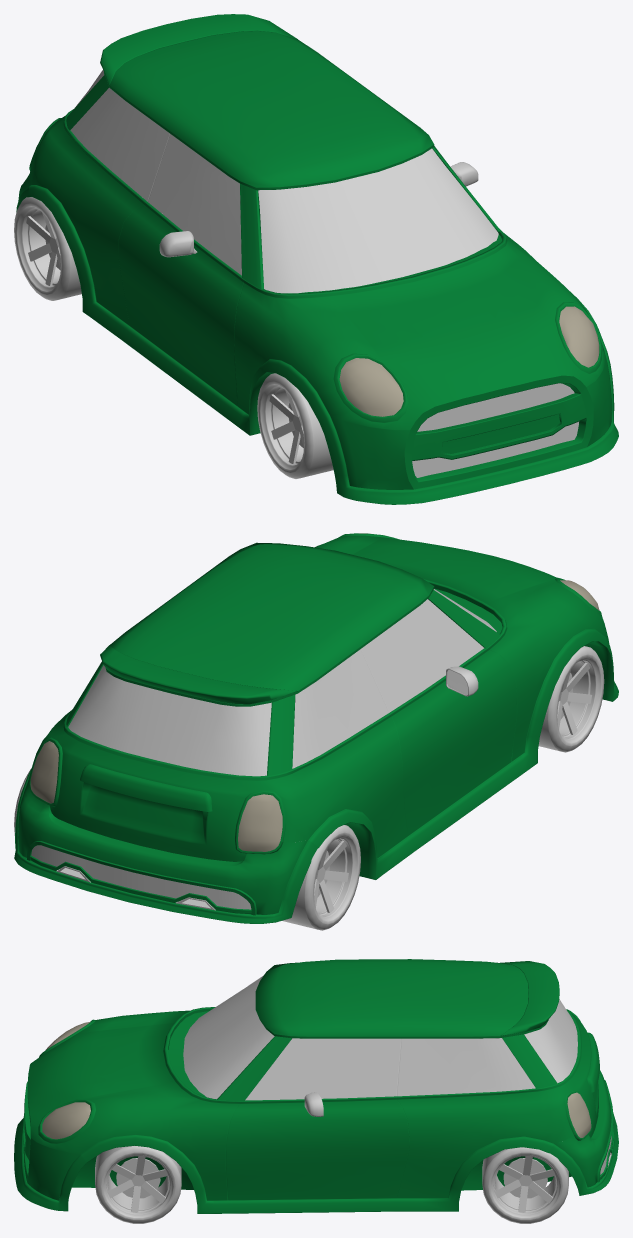
Rendered from traffic-Mini.obj.
The picture shows the model from 3 angles, top to bottom: view 1: azimuth 30°, elevation 25°; view 2: azimuth 150°, elevation 25°; view 3: azimuth 270°, elevation 25°; orthographic projection. The views are drawn at different scales.
Parts seen in each view (by area): view 1: Body_Plane.002, Front_Right_Wheel_Cylinder.005, Rear_Right_Wheel_Cylinder.012, Font_light_Plane.007, Side_Mirrors__Cube.005; view 2: Body_Plane.002, Rear_Right_Wheel_Cylinder.012, Front_Right_Wheel_Cylinder.005, Rear_light_Plane.010, Side_Mirrors__Cube.005; view 3: Body_Plane.002, Front_Left_Wheel_Cylinder.006, Rear_Left_Wheel_Cylinder.007, Font_light_Plane.007, Rear_light_Plane.010, Side_Mirrors__Cube.005.
Boxes of the visible parts, left/top/right/bottom form: Body_Plane.002: left=16, top=14, right=618, bottom=504; Front_Right_Wheel_Cylinder.005: left=257, top=373, right=333, bottom=478; Rear_Right_Wheel_Cylinder.012: left=14, top=197, right=81, bottom=300; Font_light_Plane.007: left=339, top=306, right=599, bottom=416; Side_Mirrors__Cube.005: left=159, top=162, right=478, bottom=257; Body_Plane.002: left=14, top=533, right=618, bottom=923; Rear_Right_Wheel_Cylinder.012: left=282, top=825, right=360, bottom=930; Front_Right_Wheel_Cylinder.005: left=538, top=646, right=604, bottom=752; Rear_light_Plane.010: left=30, top=741, right=282, bottom=851; Side_Mirrors__Cube.005: left=446, top=666, right=478, bottom=696; Body_Plane.002: left=14, top=959, right=618, bottom=1213; Front_Left_Wheel_Cylinder.006: left=95, top=1146, right=181, bottom=1223; Rear_Left_Wheel_Cylinder.007: left=482, top=1147, right=568, bottom=1223; Font_light_Plane.007: left=42, top=1022, right=90, bottom=1139; Rear_light_Plane.010: left=567, top=1092, right=591, bottom=1137; Side_Mirrors__Cube.005: left=304, top=1092, right=323, bottom=1116.
Bounding box in the file's own units: 2.17 × 1.5 × 4.56.
